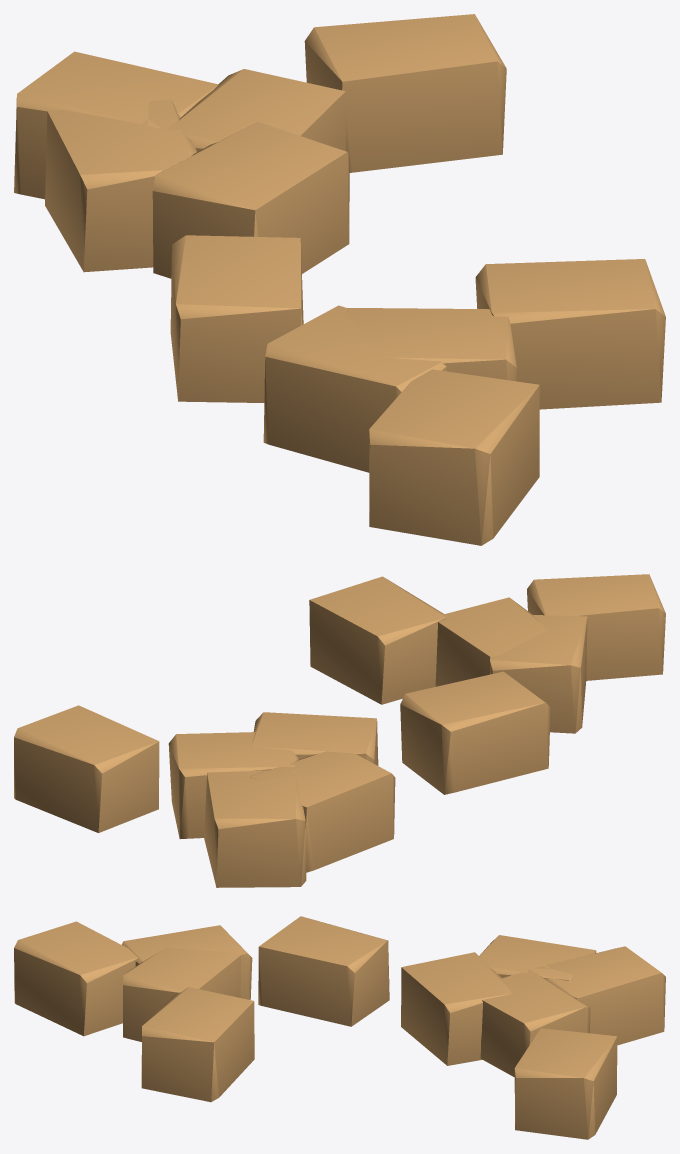
File: NJD-09-LOD1.glb
3 renders of one model, top to bottom at view 1: azimuth 30°, elevation 25°; view 2: azimuth 150°, elevation 25°; view 3: azimuth 270°, elevation 25°, orthographic. The views are drawn at different scales.
Visible parts, largest first — view 1: settled rubble.009, settled rubble.006, settled rubble.003, settled rubble.008, settled rubble, settled rubble.002, settled rubble.004, settled rubble.007, settled rubble.001, settled rubble.005; view 2: settled rubble, settled rubble.006, settled rubble.003, settled rubble.007, settled rubble.009, settled rubble.002, settled rubble.004, settled rubble.001, settled rubble.005, settled rubble.008; view 3: settled rubble, settled rubble.003, settled rubble.009, settled rubble.006, settled rubble.008, settled rubble.007, settled rubble.001, settled rubble.005, settled rubble.002, settled rubble.004.
Part boxes in pixels (x1=…): settled rubble.009: x1=369, y1=369, x2=539, y2=545; settled rubble.006: x1=304, y1=14, x2=506, y2=172; settled rubble.003: x1=475, y1=259, x2=665, y2=409; settled rubble.008: x1=152, y1=122, x2=349, y2=278; settled rubble: x1=170, y1=235, x2=303, y2=402; settled rubble.002: x1=45, y1=99, x2=196, y2=272; settled rubble.004: x1=263, y1=305, x2=446, y2=472; settled rubble.007: x1=14, y1=51, x2=218, y2=199; settled rubble.001: x1=167, y1=69, x2=345, y2=151; settled rubble.005: x1=347, y1=308, x2=516, y2=381; settled rubble: x1=400, y1=671, x2=550, y2=794; settled rubble.006: x1=14, y1=705, x2=159, y2=832; settled rubble.003: x1=309, y1=576, x2=446, y2=704; settled rubble.007: x1=204, y1=769, x2=306, y2=887; settled rubble.009: x1=527, y1=574, x2=665, y2=680; settled rubble.002: x1=249, y1=751, x2=395, y2=872; settled rubble.004: x1=490, y1=615, x2=587, y2=733; settled rubble.001: x1=168, y1=732, x2=298, y2=838; settled rubble.005: x1=435, y1=597, x2=548, y2=686; settled rubble.008: x1=251, y1=712, x2=378, y2=765; settled rubble: x1=258, y1=916, x2=389, y2=1026; settled rubble.003: x1=141, y1=987, x2=254, y2=1102; settled rubble.009: x1=14, y1=921, x2=137, y2=1036; settled rubble.006: x1=514, y1=1028, x2=617, y2=1139; settled rubble.008: x1=401, y1=952, x2=512, y2=1065; settled rubble.007: x1=535, y1=946, x2=665, y2=1045; settled rubble.001: x1=480, y1=969, x2=590, y2=1077; settled rubble.005: x1=123, y1=947, x2=241, y2=1041; settled rubble.002: x1=479, y1=935, x2=596, y2=980; settled rubble.004: x1=121, y1=925, x2=252, y2=999.
Size of the model in its own units: 1.12 by 0.1965 by 1.89.
